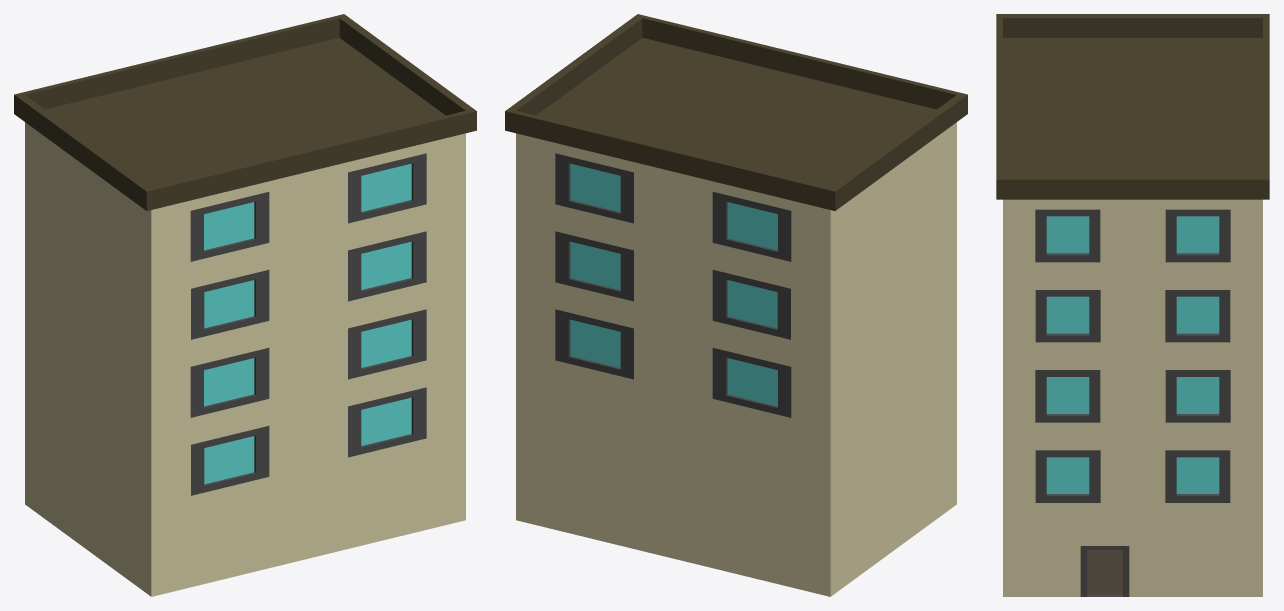
The model's file is random res build 12.fbx.
The picture shows the model from 3 angles, left to right: view 1: azimuth 30°, elevation 25°; view 2: azimuth 150°, elevation 25°; view 3: azimuth 270°, elevation 25°; orthographic projection. The views are drawn at different scales.
Parts seen in each view (by area): view 1: building_012; view 2: building_012; view 3: building_012.
Boxes of the visible parts, left/top/right/bottom form: building_012: left=14, top=14, right=476, bottom=596; building_012: left=505, top=14, right=967, bottom=596; building_012: left=996, top=14, right=1269, bottom=596.
Bounding box in the file's own units: 4804 × 5695 × 3345.
